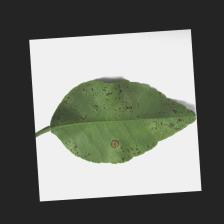canker: (88, 82, 140, 110)
